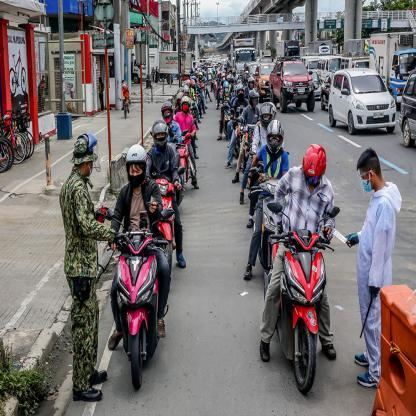helmet: (125, 143, 149, 186), (302, 144, 327, 185), (266, 120, 284, 155), (151, 119, 168, 149), (259, 102, 276, 127), (160, 101, 174, 125), (248, 90, 260, 108), (180, 95, 191, 112), (236, 84, 245, 100)
nohelmet: (357, 148, 383, 194)
